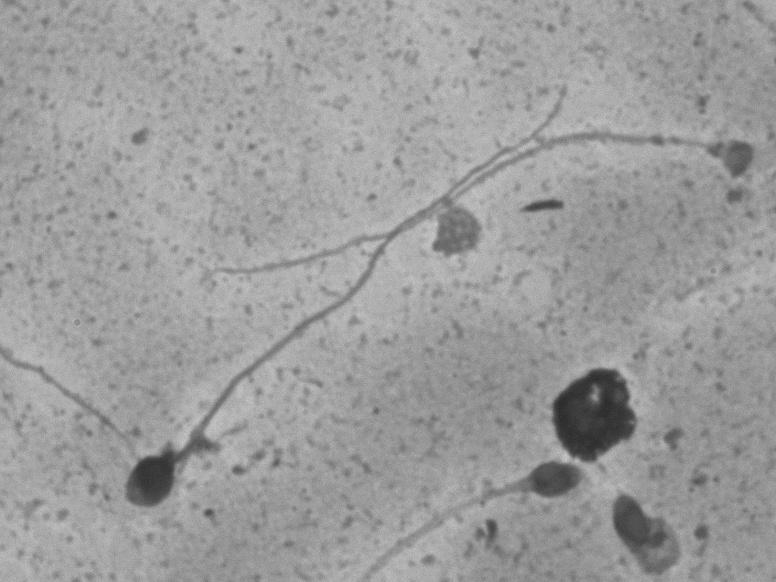Abnormal: (600, 467, 733, 571)
Normal: (105, 75, 584, 540)
